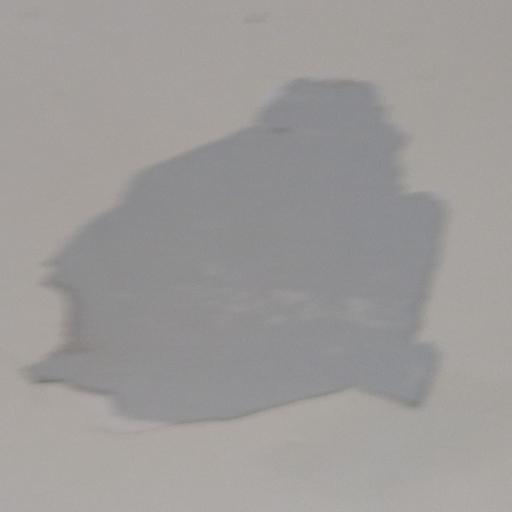peeling: (20, 54, 453, 440)
